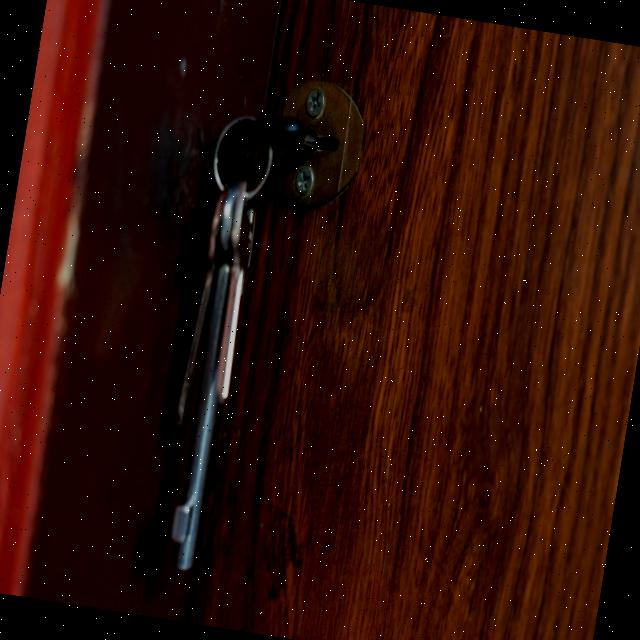Frontdoor keys: (138, 171, 266, 582)
